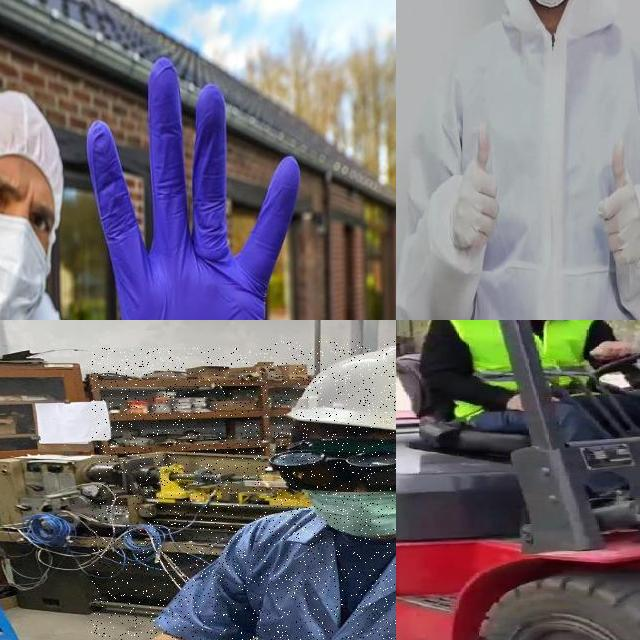GLASS: (274, 438, 396, 500)
Glove: (30, 53, 299, 320), (452, 123, 501, 254), (596, 137, 640, 267)
HELMET: (276, 341, 396, 439)
MASK: (0, 199, 48, 320)
